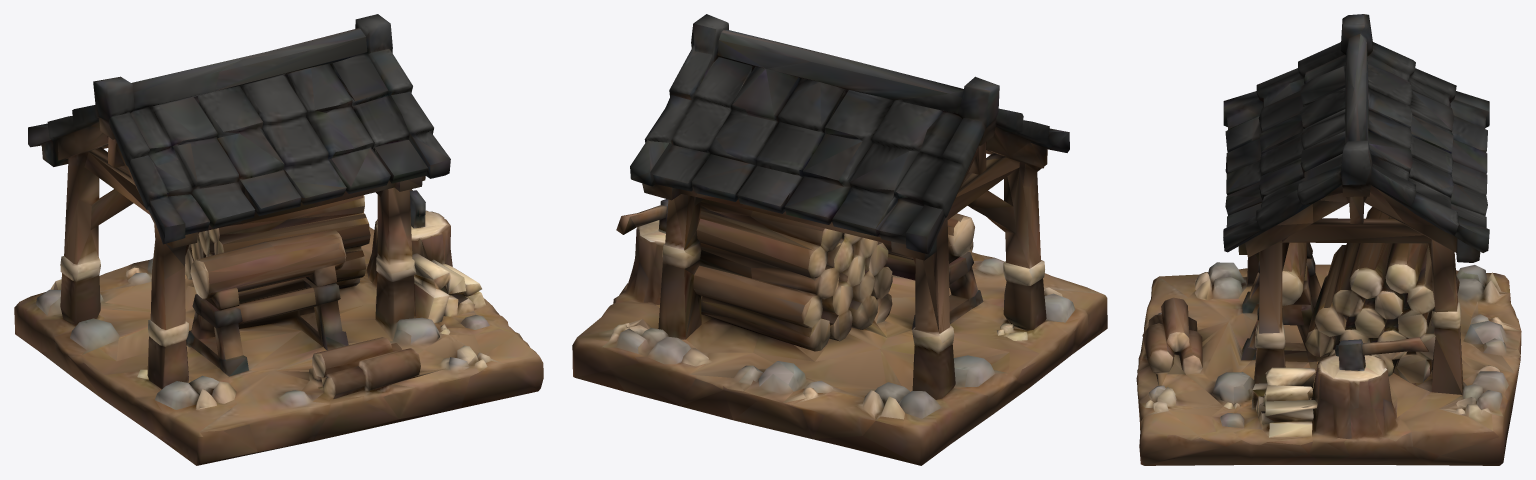
Rendered from lumber.glb.
3 views of the same model, side by side, from view 1: azimuth 30°, elevation 25°; view 2: azimuth 150°, elevation 25°; view 3: azimuth 270°, elevation 25° (orthographic). The views are drawn at different scales.
Visible parts, largest first — view 1: tripo_node_06097d0e-43ca-4f86-89bd-cd4290ecbd55; view 2: tripo_node_06097d0e-43ca-4f86-89bd-cd4290ecbd55; view 3: tripo_node_06097d0e-43ca-4f86-89bd-cd4290ecbd55.
Part boxes in pixels (x1,y1,x2,y2): tripo_node_06097d0e-43ca-4f86-89bd-cd4290ecbd55: (14, 14, 543, 465); tripo_node_06097d0e-43ca-4f86-89bd-cd4290ecbd55: (572, 14, 1107, 465); tripo_node_06097d0e-43ca-4f86-89bd-cd4290ecbd55: (1136, 14, 1521, 465).
Size of the model in its own units: 0.9787 by 0.7618 by 0.899.
1 material, 1 textured.
